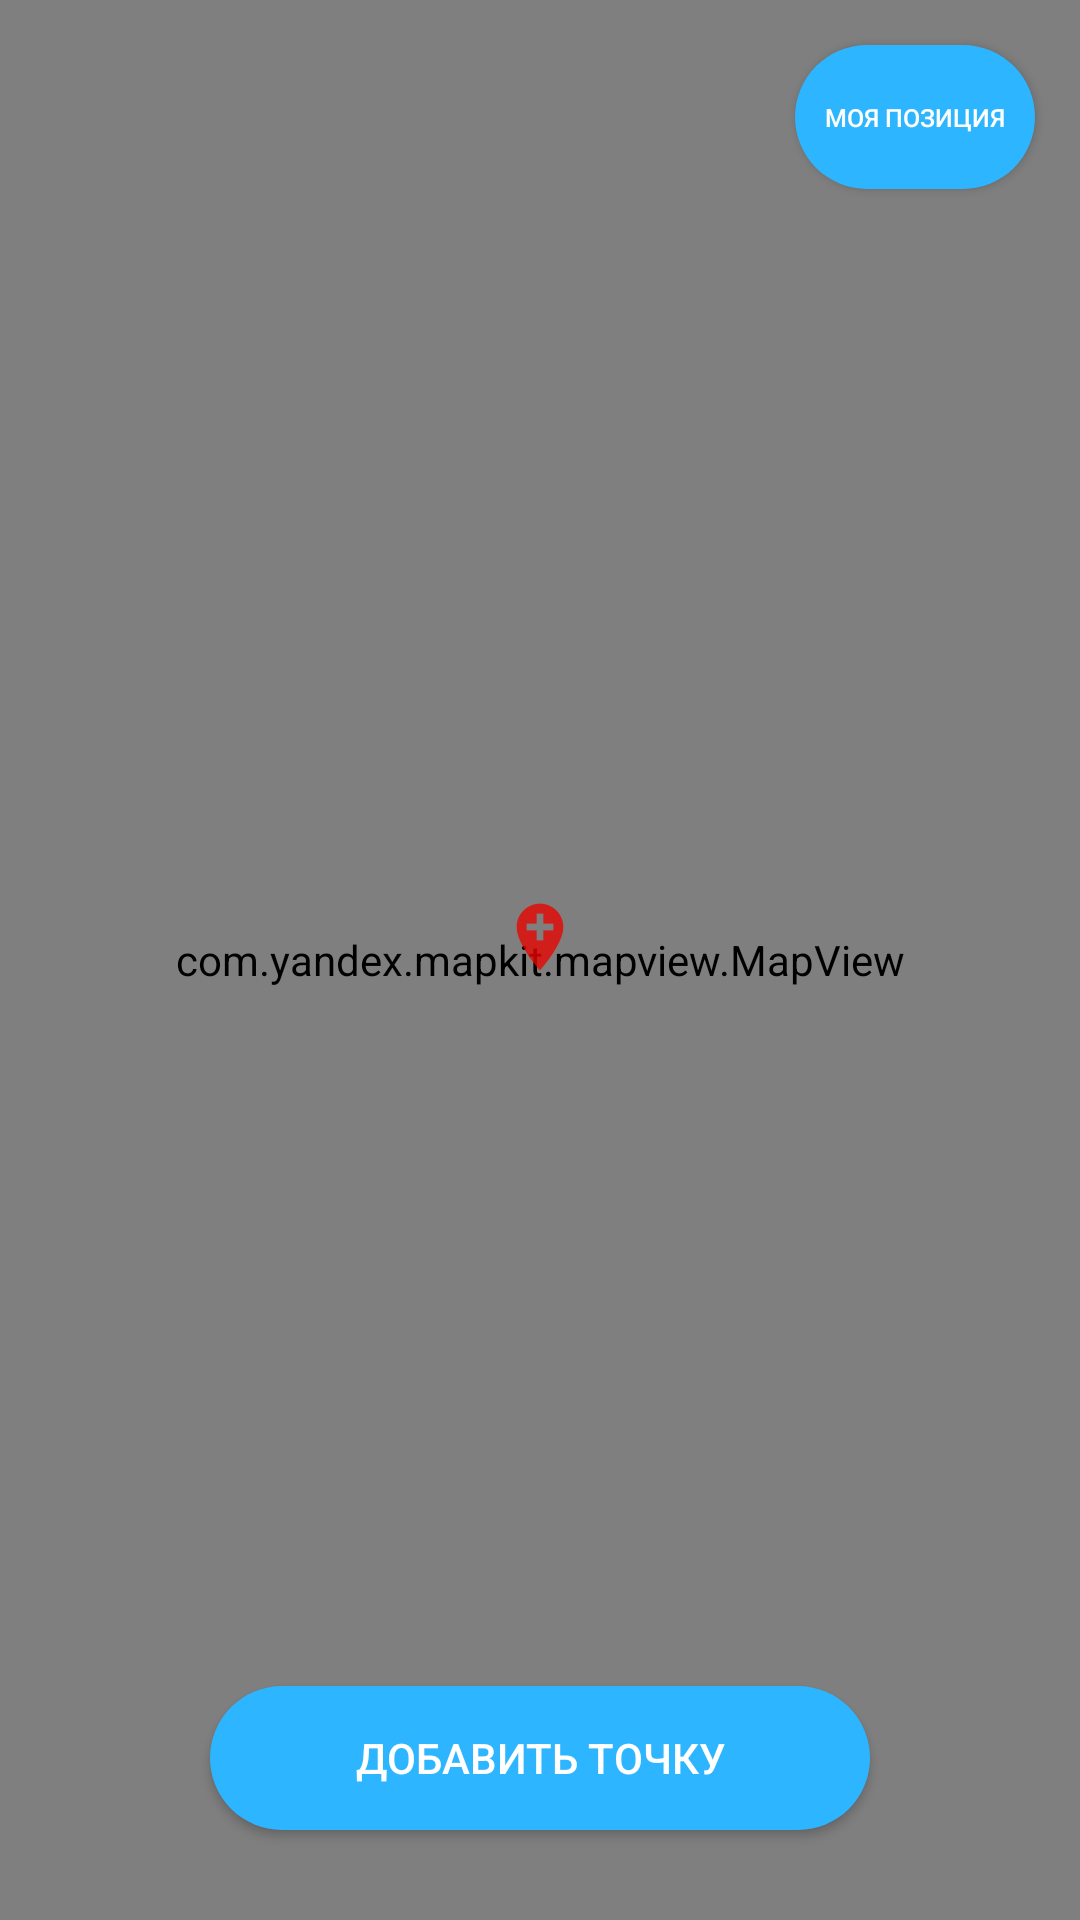

Screen size 1080w x 1920h. Icon name, then its center in pixels as point (x, y):
marker dot: point (534, 940)
